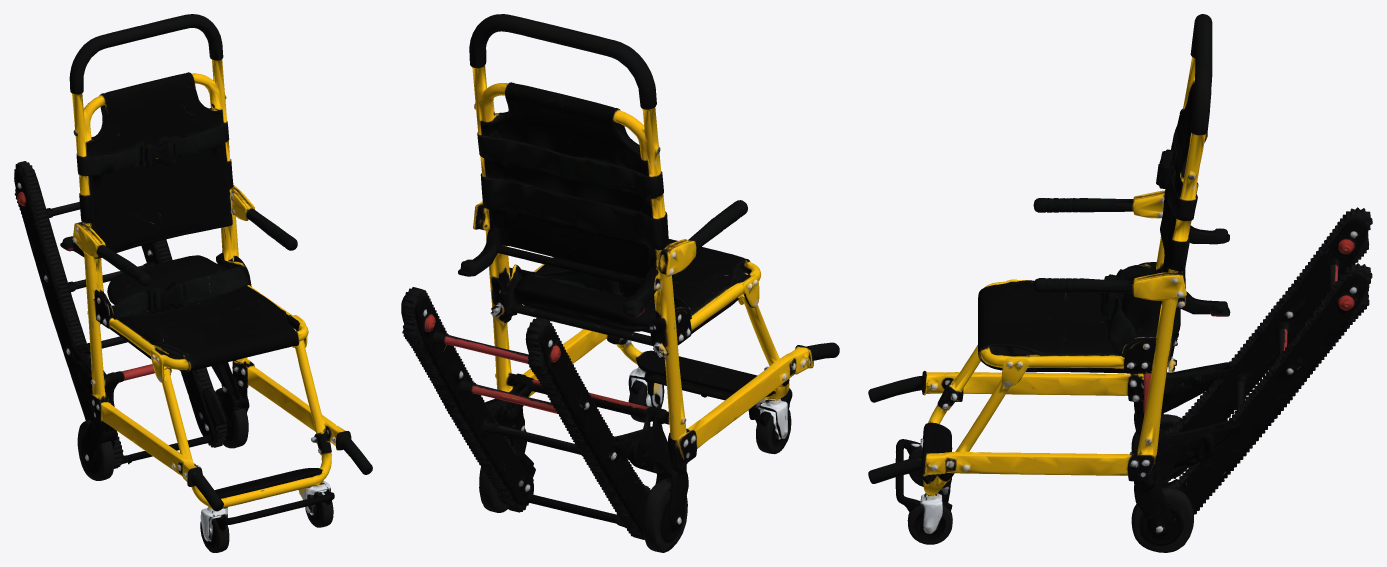
The model's file is stair_chair.glb.
3 views of the same model, side by side, from view 1: azimuth 30°, elevation 25°; view 2: azimuth 150°, elevation 25°; view 3: azimuth 270°, elevation 25° (orthographic). The views are drawn at different scales.
Parts seen in each view (by area): view 1: Mesh_0; view 2: Mesh_0; view 3: Mesh_0.
Part boxes in pixels (x1,y1,x2,y2): Mesh_0: (14,14,372,552); Mesh_0: (401,14,839,552); Mesh_0: (868,14,1372,552).
Size of the model in its own units: 0.0486 by 0.12 by 0.1157.
Materials: 1 (1 with a texture image).
